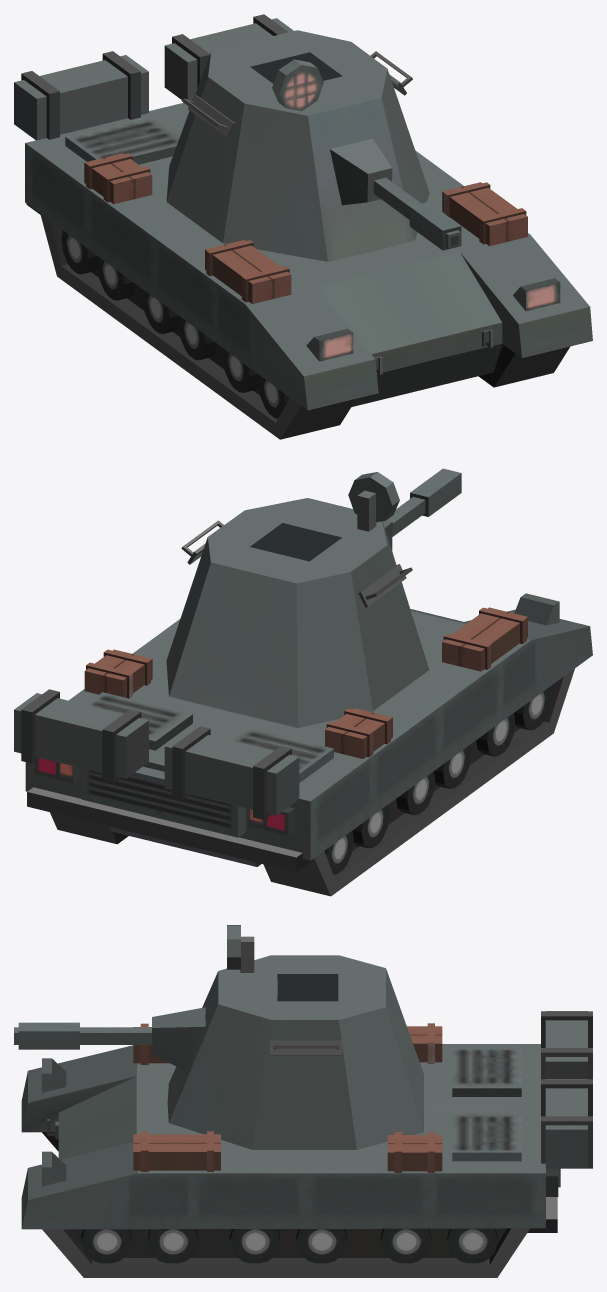
Rendered from tank02.FBX.
3 renders of one model, top to bottom at view 1: azimuth 30°, elevation 25°; view 2: azimuth 150°, elevation 25°; view 3: azimuth 270°, elevation 25°, orthographic. The views are drawn at different scales.
Visible parts, largest first — view 1: tank02; view 2: tank02; view 3: tank02.
Part boxes in pixels (box(x1,y1,x2,y2)): tank02: box(14, 14, 592, 439); tank02: box(14, 468, 592, 896); tank02: box(14, 925, 592, 1277).
Bounding box in the file's own units: 5.25 × 5.15 × 9.91.
